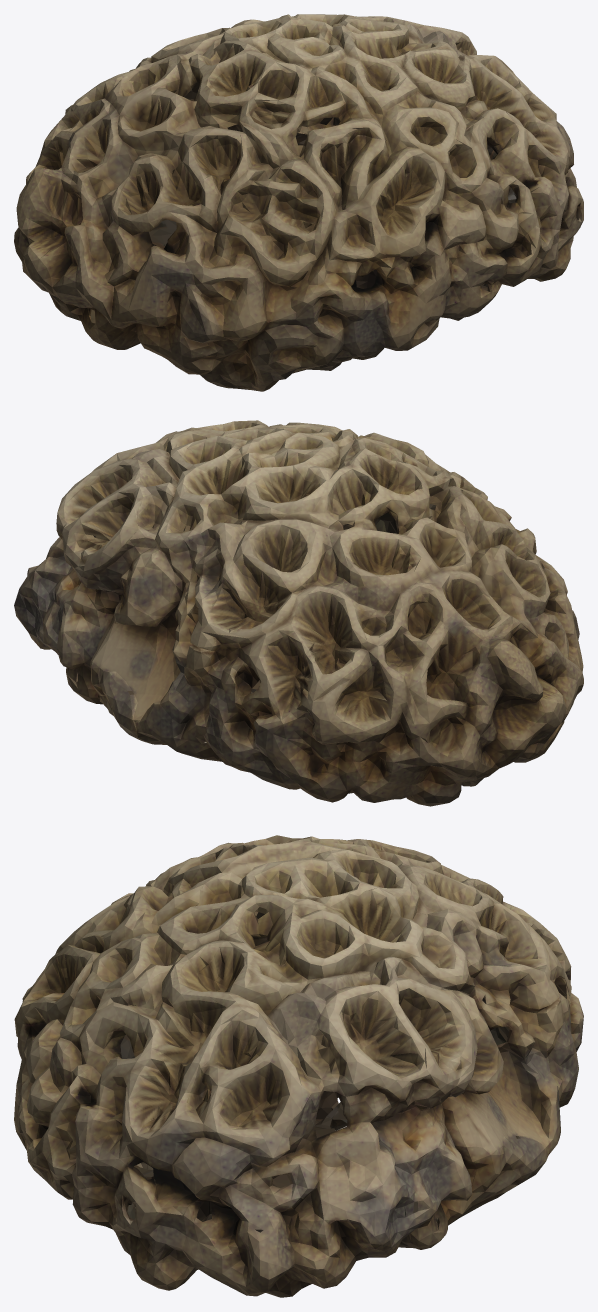
The picture shows the model from 3 angles, top to bottom: view 1: azimuth 30°, elevation 25°; view 2: azimuth 150°, elevation 25°; view 3: azimuth 270°, elevation 25°; orthographic projection. The views are drawn at different scales.
Visible parts, largest first — view 1: world; view 2: world; view 3: world.
Part boxes in pixels (box(x1,y1,x2,y2)): world: box(14, 14, 583, 391); world: box(14, 420, 583, 806); world: box(14, 835, 583, 1297).
Bounding box in the file's own units: 0.998 × 0.5489 × 0.7734.
Materials: 1 (1 with a texture image).
